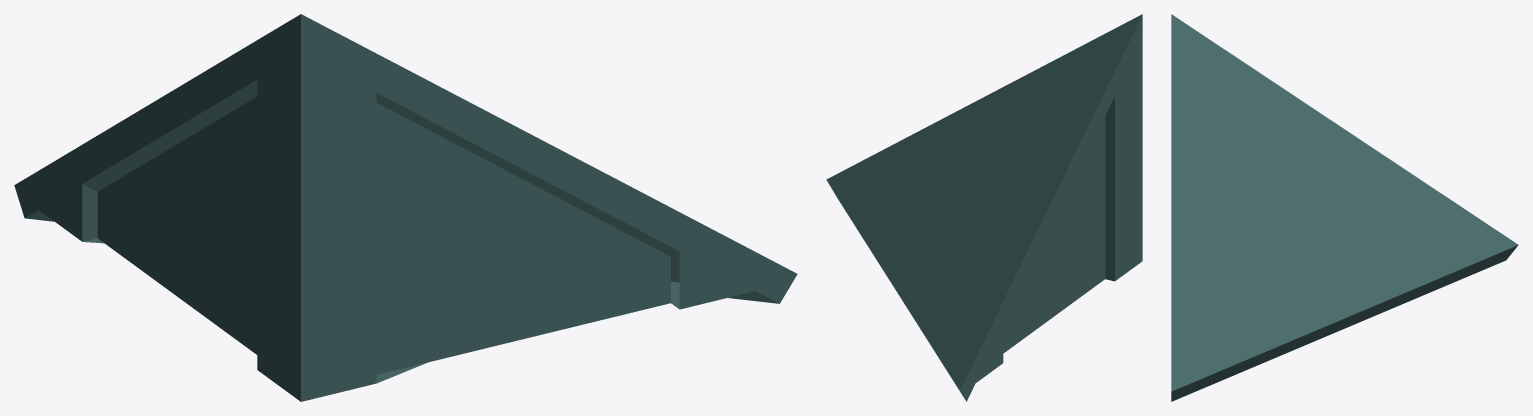
Rendered from roof_corner_green_01.glb.
The picture shows the model from 3 angles, left to right: view 1: azimuth 30°, elevation 25°; view 2: azimuth 150°, elevation 25°; view 3: azimuth 270°, elevation 25°; orthographic projection. The views are drawn at different scales.
Parts seen in each view (by area): view 1: Mesh1 Roof_Corner_Green Model; view 2: Mesh1 Roof_Corner_Green Model; view 3: Mesh1 Roof_Corner_Green Model.
Boxes of the visible parts, left/top/right/bottom form: Mesh1 Roof_Corner_Green Model: left=14, top=14, right=797, bottom=401; Mesh1 Roof_Corner_Green Model: left=826, top=14, right=1142, bottom=401; Mesh1 Roof_Corner_Green Model: left=1171, top=14, right=1518, bottom=401.
Size of the model in its own units: 3.28 by 2.57 by 3.28.
